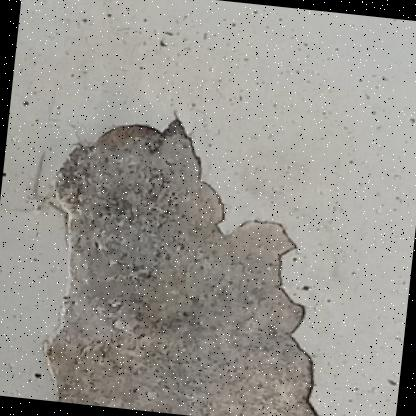Crack: (0, 72, 392, 415)
